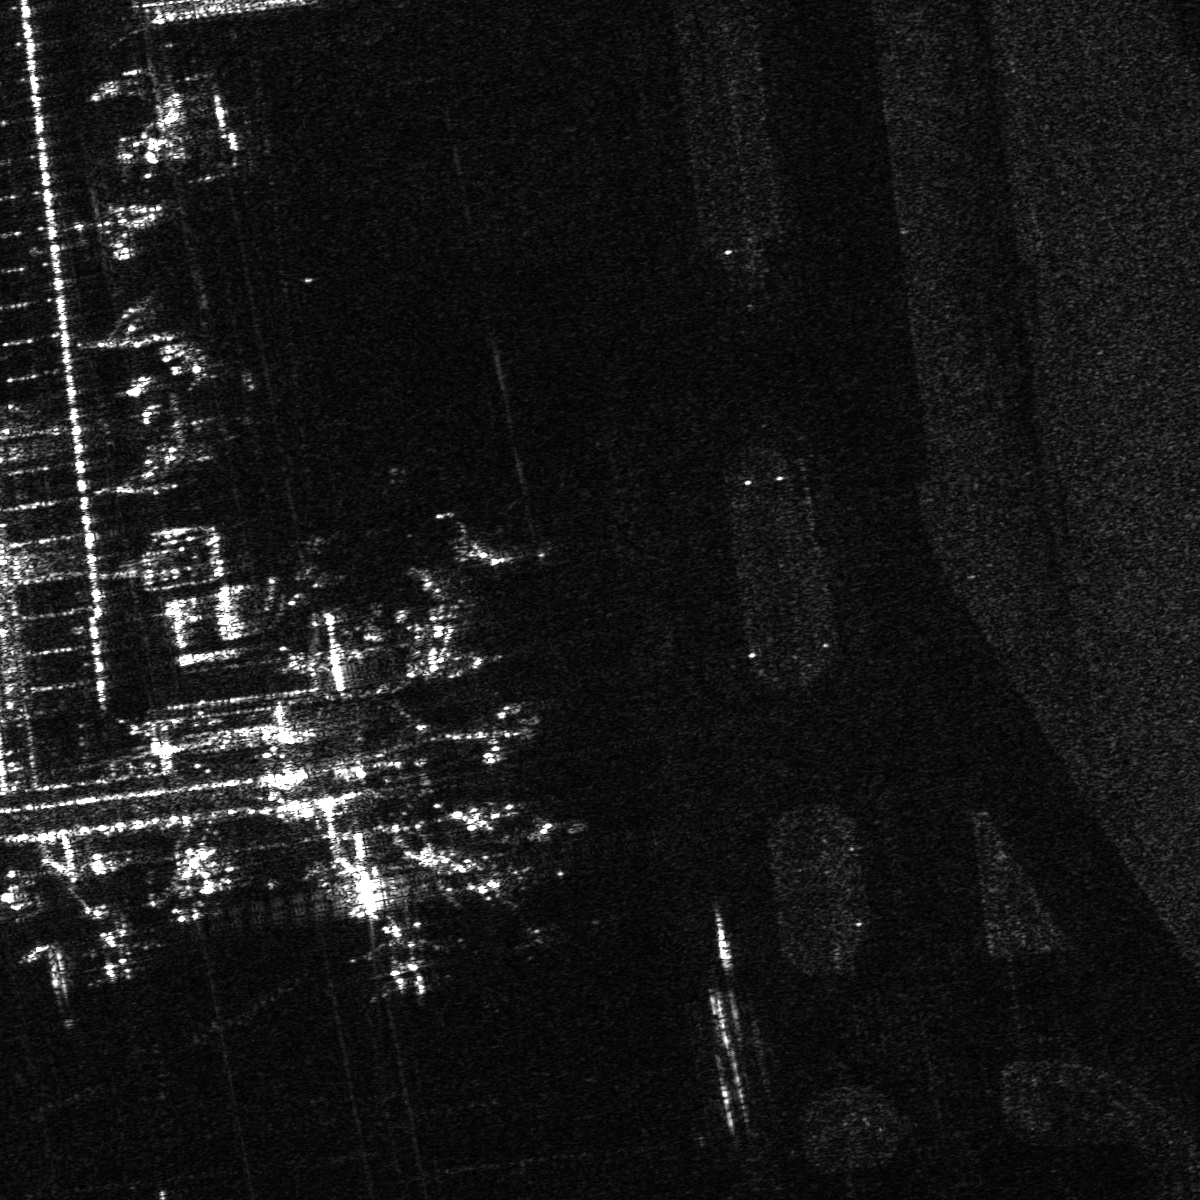Boeing737: (351, 921, 456, 1003)
